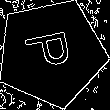P_E: (22, 30, 80, 77)
